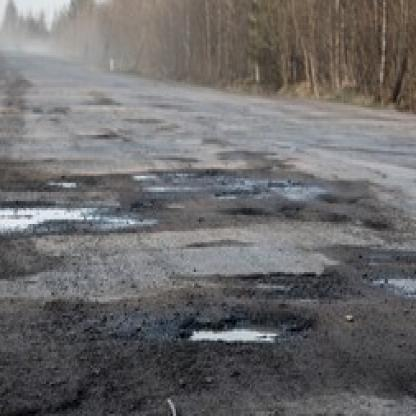pothole: (183, 311, 303, 347), (225, 206, 265, 217), (362, 215, 386, 231)
